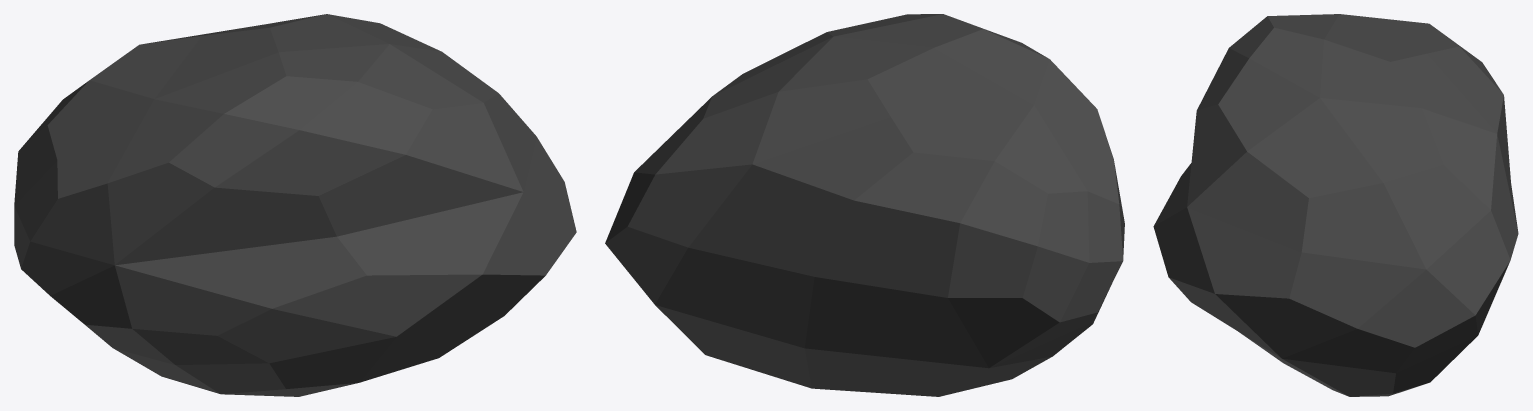
File: Asteroid.001.fbx
The picture shows the model from 3 angles, left to right: view 1: azimuth 30°, elevation 25°; view 2: azimuth 150°, elevation 25°; view 3: azimuth 270°, elevation 25°; orthographic projection. The views are drawn at different scales.
Parts seen in each view (by area): view 1: Asteroid.001; view 2: Asteroid.001; view 3: Asteroid.001.
Part boxes in pixels (<box>): Asteroid.001: <box>14,14,576,396</box>; Asteroid.001: <box>605,14,1124,396</box>; Asteroid.001: <box>1153,14,1518,396</box>.
Size of the model in its own units: 9.02 by 6.19 by 6.75.
